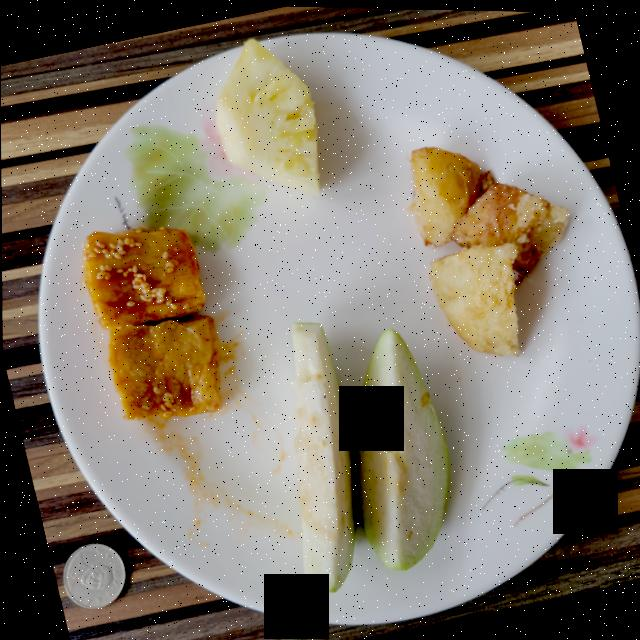coin: (62, 542, 125, 608)
creamy tofu: (82, 226, 221, 419)
fried potato: (408, 144, 569, 353)
guava -sliced-: (291, 320, 448, 590)
pineapple: (215, 37, 319, 192)
